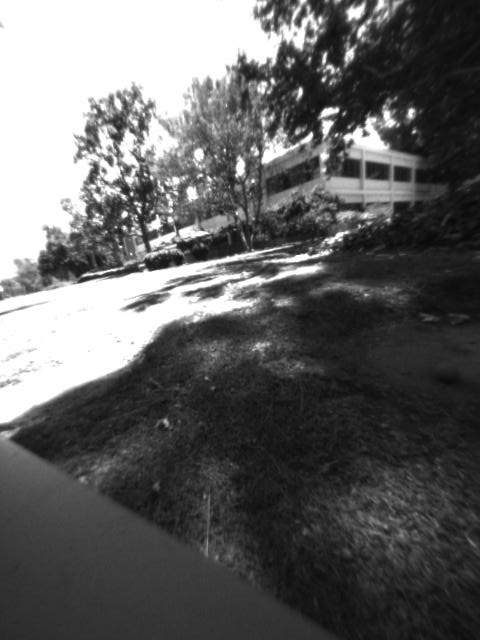dogtoy: (427, 354, 467, 392)
